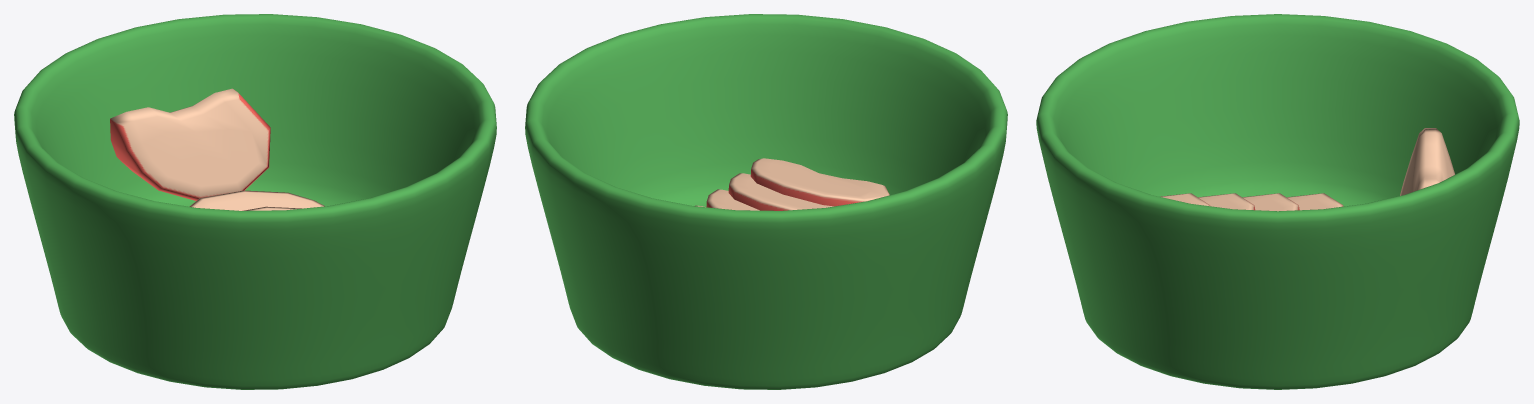
Rendered from BolManzana.fbx.
3 views of the same model, side by side, from view 1: azimuth 30°, elevation 25°; view 2: azimuth 150°, elevation 25°; view 3: azimuth 270°, elevation 25° (orthographic).
Parts seen in each view (by area): view 1: Manzana_Cortada_Cambios; view 2: Manzana_Cortada_Cambios; view 3: Manzana_Cortada_Cambios.
Part boxes in pixels (x1,y1,x2,y2): Manzana_Cortada_Cambios: (14, 14, 496, 389); Manzana_Cortada_Cambios: (525, 14, 1007, 389); Manzana_Cortada_Cambios: (1036, 14, 1519, 389).
Size of the model in its own units: 4.12 by 1.84 by 4.12.
